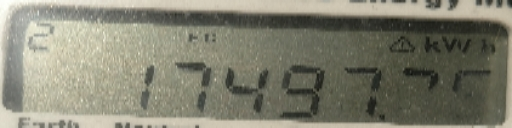1: (134, 51, 166, 117)
4: (221, 55, 271, 124)
5: (447, 48, 504, 128)
7: (332, 48, 389, 128), (395, 48, 452, 128), (166, 49, 216, 114)
9: (268, 53, 337, 128)
d: (383, 105, 393, 128)
